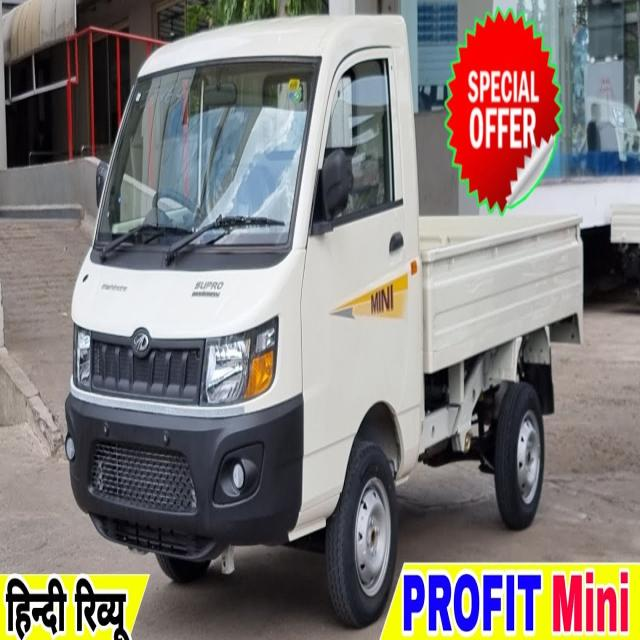truck: (65, 16, 582, 627)
